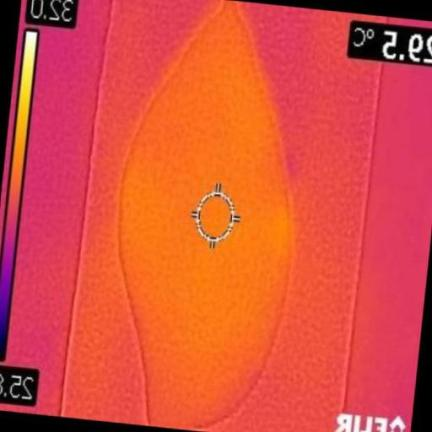mango: (120, 0, 293, 428)
